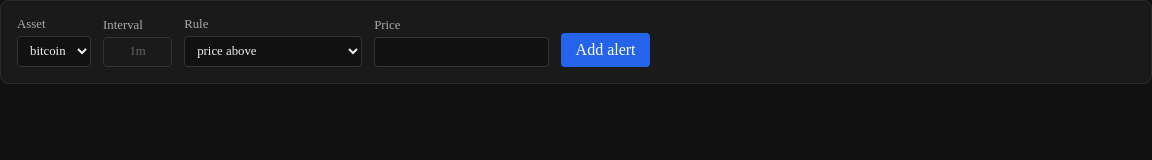
Scenario: AlertForm — validation › shows "Multiplier must be > 1" for multiplier ≤ 1
The image size is (1152, 160).
Select "volume spike /1m" in the dropdown labelled "Rule": (273, 51) [184,36,362,67]
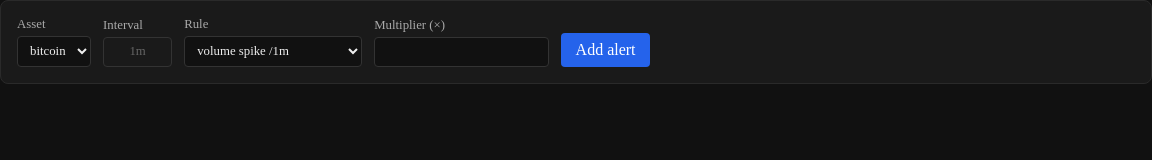
In the number field labelled "Multiplier (×)": (462, 52) [374,37,549,67], type "1"
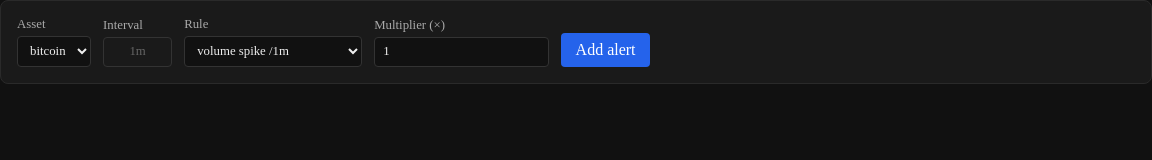
Click the button "Add alert": (606, 50) [561,33,650,67]
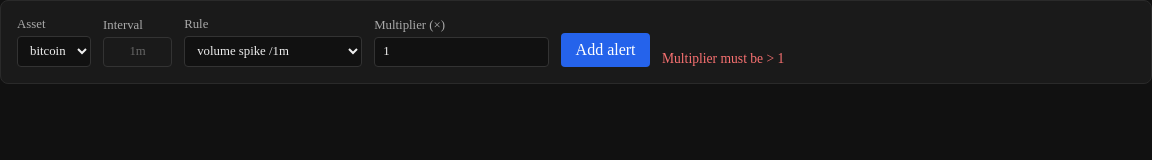
Expected: the text "Multiplier must be > 1" is shown, [662,51,784,67]
